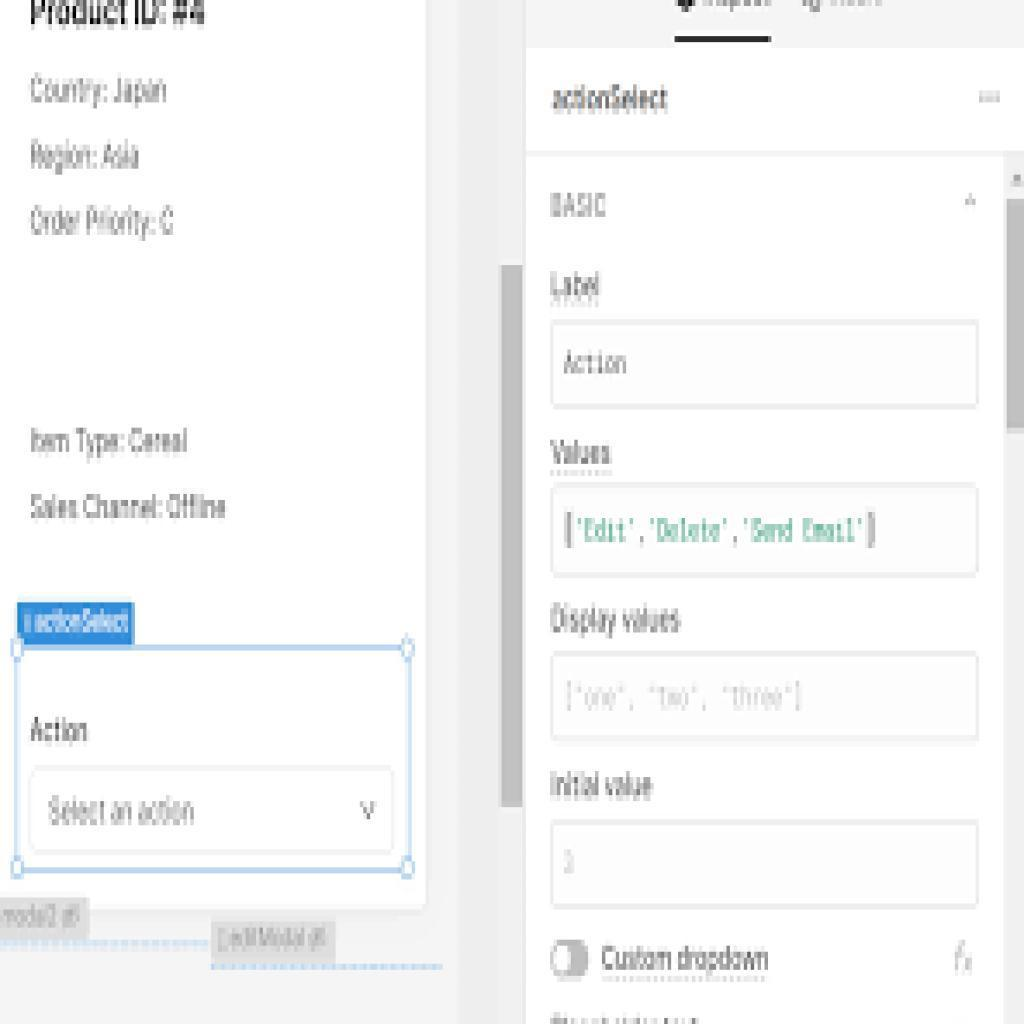dropdown: (31, 770, 391, 853)
input: (548, 321, 980, 410), (554, 654, 981, 743), (554, 487, 977, 575), (551, 820, 977, 907)
switch: (547, 935, 595, 984)
